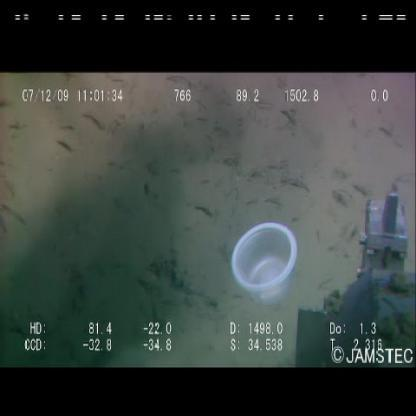Rov: (286, 181, 416, 362)
Rác: (224, 217, 299, 305)
